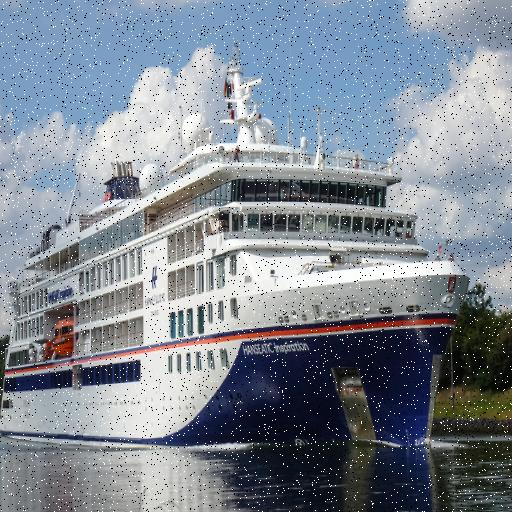cruises: (1, 45, 469, 452)
